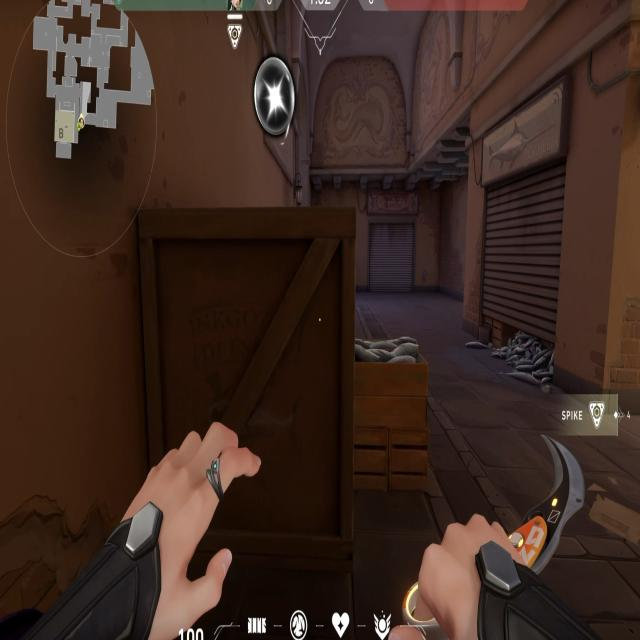B_Main_Corner: (461, 83, 586, 377)
B_Main_Wallbang: (143, 42, 431, 534)
